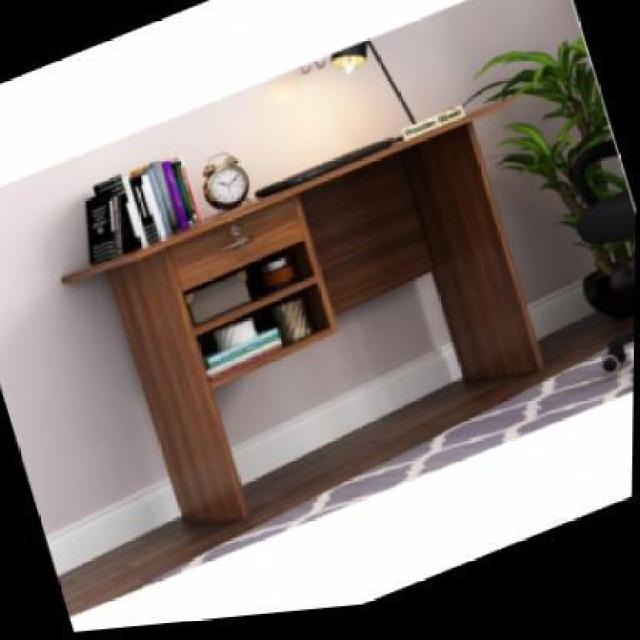tables: (59, 94, 546, 523)
